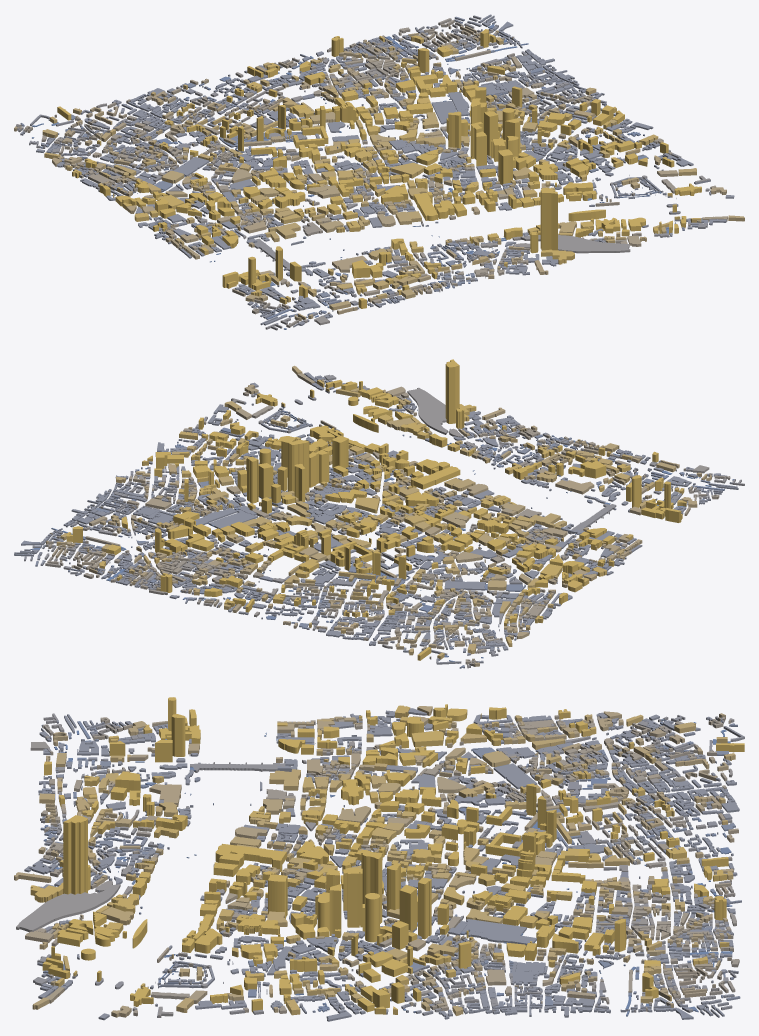
File: buildings.glb
The picture shows the model from 3 angles, top to bottom: view 1: azimuth 30°, elevation 25°; view 2: azimuth 150°, elevation 25°; view 3: azimuth 270°, elevation 25°; orthographic projection. The views are drawn at different scales.
Visible parts, largest first — view 1: buildings; view 2: buildings; view 3: buildings.
Boxes of the visible parts, left/top/right/bottom form: buildings: left=14, top=14, right=744, bottom=330; buildings: left=14, top=359, right=744, bottom=668; buildings: left=14, top=697, right=744, bottom=1021.
Bounding box in the file's own units: 2759 × 334 × 2768.
